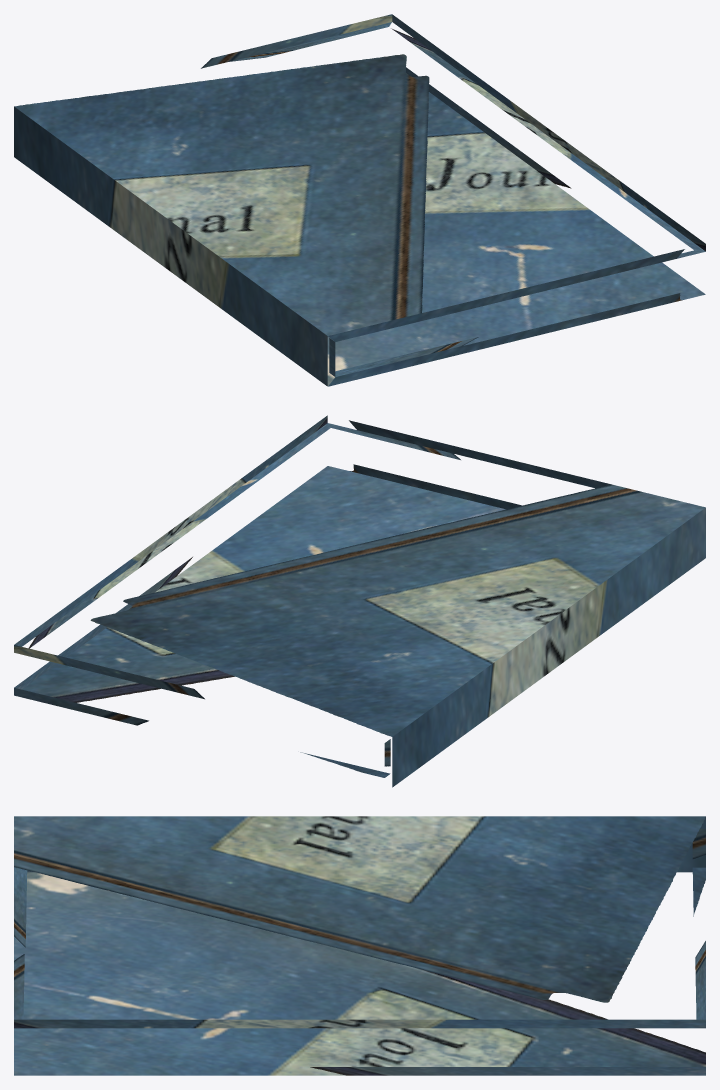
File: Journal.FBX
3 views of the same model, one above another, from view 1: azimuth 30°, elevation 25°; view 2: azimuth 150°, elevation 25°; view 3: azimuth 270°, elevation 25° (orthographic). The views are drawn at different scales.
Visible parts, largest first — view 1: Box001; view 2: Box001; view 3: Box001.
Part boxes in pixels (bbox=[...]): Box001: bbox=[14, 14, 705, 386]; Box001: bbox=[14, 415, 705, 787]; Box001: bbox=[14, 816, 705, 1075].
Size of the model in its own units: 19.73 by 2.53 by 28.36.
